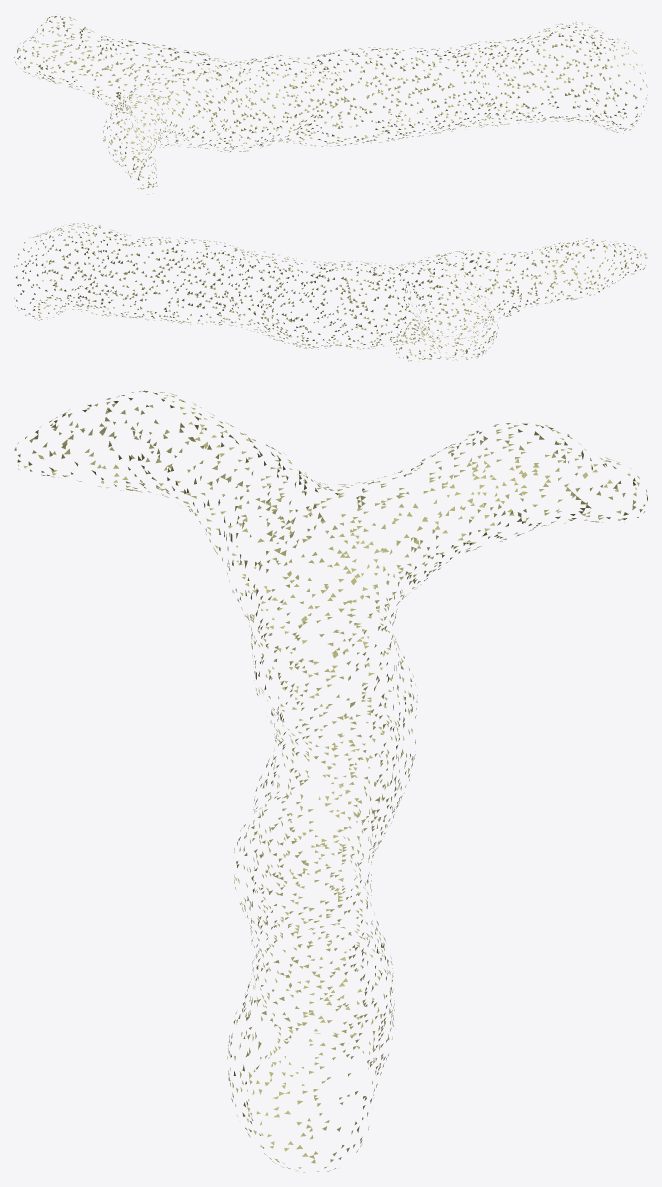
Rendered from morph_009.glb.
3 renders of one model, top to bottom at view 1: azimuth 30°, elevation 25°; view 2: azimuth 150°, elevation 25°; view 3: azimuth 270°, elevation 25°, orthographic. The views are drawn at different scales.
Bounding box in the file's own units: 144 × 43.38 × 78.28.
